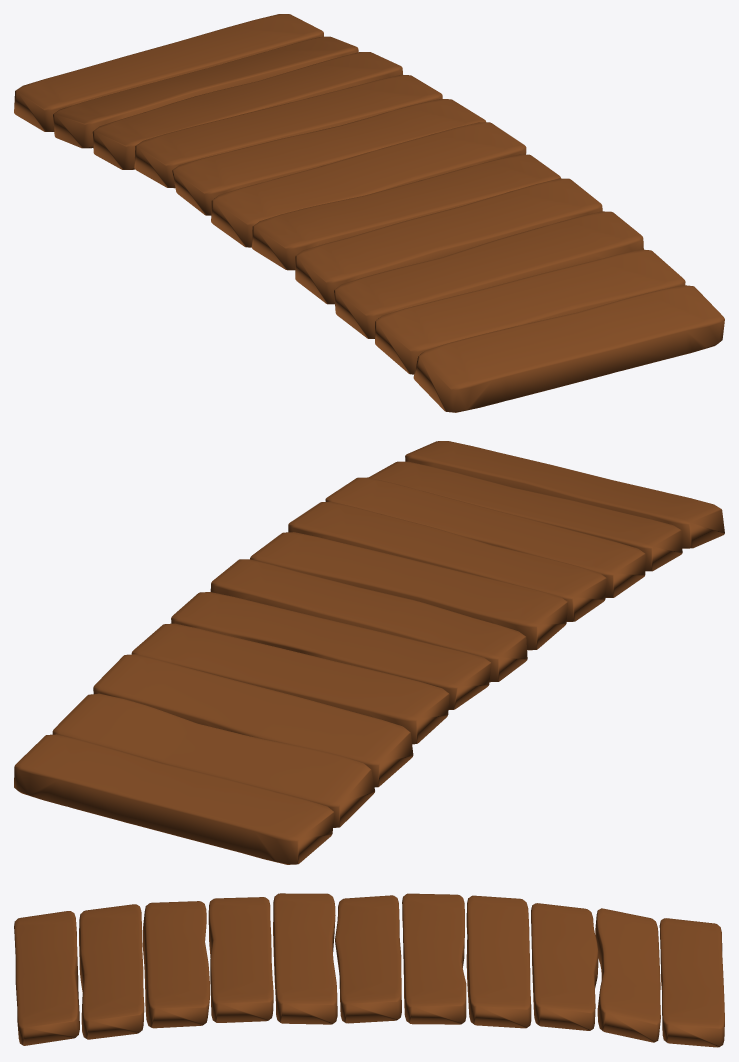
Rendered from bridge.fbx.
3 views of the same model, one above another, from view 1: azimuth 30°, elevation 25°; view 2: azimuth 150°, elevation 25°; view 3: azimuth 270°, elevation 25° (orthographic). The views are drawn at different scales.
Parts seen in each view (by area): view 1: Cube.014; view 2: Cube.014; view 3: Cube.014.
Boxes of the visible parts, x1,y1,x2,y2 form: Cube.014: (14, 14, 724, 412); Cube.014: (14, 441, 724, 864); Cube.014: (14, 893, 724, 1047).
Bounding box in the file's own units: 97.64 × 22.25 × 252.
